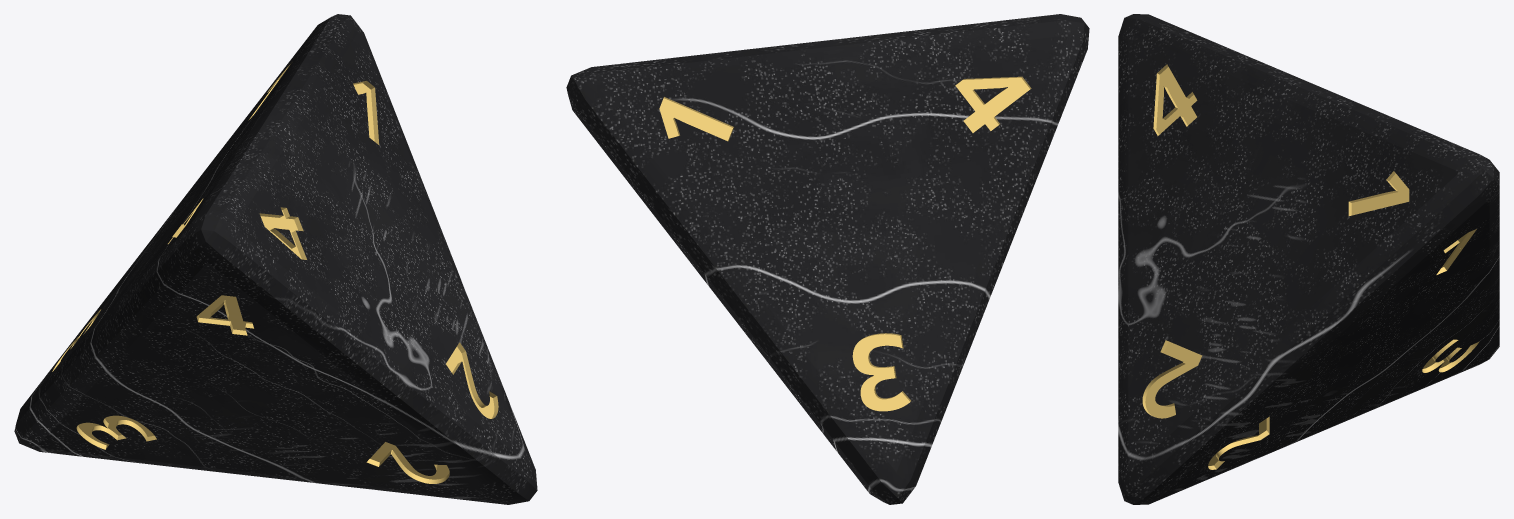
3 views of the same model, side by side, from view 1: azimuth 30°, elevation 25°; view 2: azimuth 150°, elevation 25°; view 3: azimuth 270°, elevation 25° (orthographic). The views are drawn at different scales.
Visible parts, largest first — view 1: body.001; view 2: body.001; view 3: body.001.
Boxes of the visible parts, x1,y1,x2,y2 form: body.001: (14,14,537,504); body.001: (566,14,1089,504); body.001: (1118,14,1499,504).
Size of the model in its own units: 0.5238 by 0.5238 by 0.5238.
2 materials, 1 textured.
